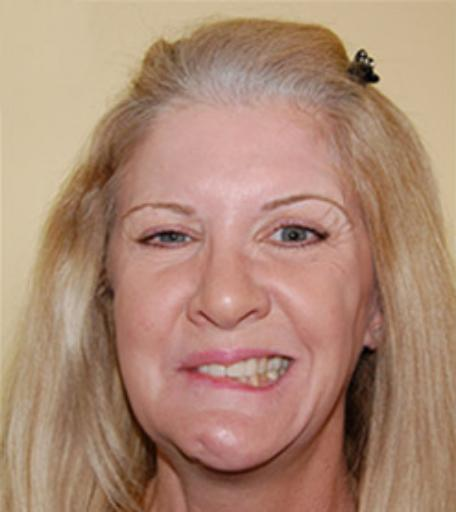left_eye: (255, 218, 331, 251)
left_lip_corner: (280, 345, 304, 373)
right_eye: (134, 229, 202, 252)
right_lip_corner: (171, 357, 190, 382)
